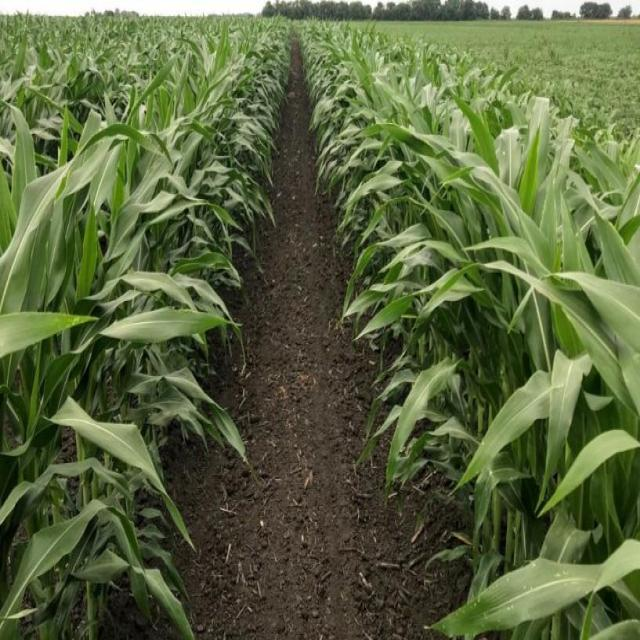row: (88, 32, 515, 640)
